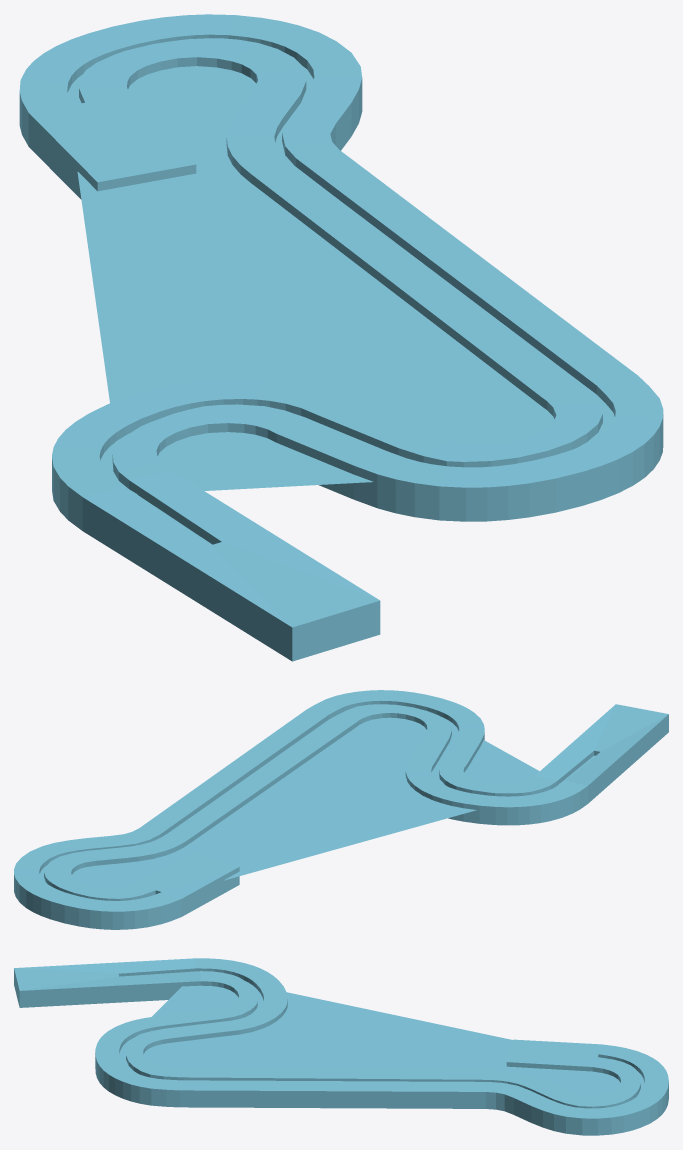
Rendered from lvl1.fbx.
The picture shows the model from 3 angles, top to bottom: view 1: azimuth 30°, elevation 25°; view 2: azimuth 150°, elevation 25°; view 3: azimuth 270°, elevation 25°; orthographic projection. The views are drawn at different scales.
Parts seen in each view (by area): view 1: Text; view 2: Text; view 3: Text.
Part boxes in pixels (left/top/right/bottom): Text: left=19, top=14, right=663, bottom=661; Text: left=14, top=690, right=668, bottom=929; Text: left=14, top=958, right=668, bottom=1135.
Bounding box in the file's own units: 160 × 9.22 × 275.
